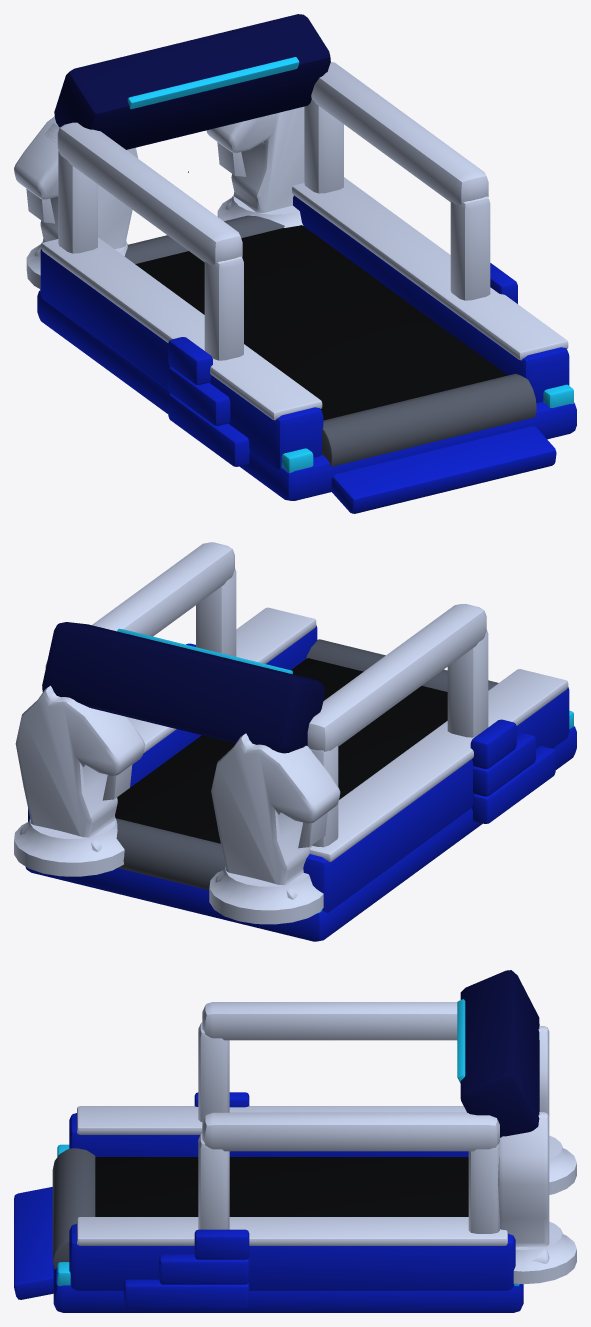
Rendered from KnightSprint.obj.
3 views of the same model, one above another, from view 1: azimuth 30°, elevation 25°; view 2: azimuth 150°, elevation 25°; view 3: azimuth 270°, elevation 25° (orthographic). The views are drawn at different scales.
Parts seen in each view (by area): view 1: KnightSprint_Chassis, KnightSprint_Trim, KnightSprint_Rail, KnightSprint_Belt, KnightSprint_Console, KnightSprint_Steel, KnightSprint_Screen; view 2: KnightSprint_Trim, KnightSprint_Chassis, KnightSprint_Rail, KnightSprint_Console, KnightSprint_Belt, KnightSprint_Steel, KnightSprint_Screen; view 3: KnightSprint_Chassis, KnightSprint_Rail, KnightSprint_Trim, KnightSprint_Belt, KnightSprint_Console, KnightSprint_Steel, KnightSprint_Screen.
Part boxes in pixels (x1,y1,x2,y2): KnightSprint_Chassis: (37,195,576,513); KnightSprint_Trim: (14,106,568,420); KnightSprint_Rail: (57,62,490,360); KnightSprint_Belt: (135,225,507,420); KnightSprint_Console: (54,14,330,172); KnightSprint_Steel: (124,215,536,466); KnightSprint_Screen: (40,57,573,472); KnightSprint_Trim: (14,607,568,924); KnightSprint_Chassis: (25,625,576,941); KnightSprint_Rail: (45,542,488,847); KnightSprint_Console: (42,622,324,783); KnightSprint_Belt: (115,658,447,843); KnightSprint_Steel: (115,639,498,890); KnightSprint_Screen: (117,628,573,912); KnightSprint_Chassis: (14,1092,523,1312); KnightSprint_Rail: (198,1002,499,1233); KnightSprint_Trim: (77,1026,576,1284); KnightSprint_Belt: (95,1157,468,1216); KnightSprint_Console: (460,970,539,1137); KnightSprint_Steel: (52,1148,95,1269); KnightSprint_Screen: (57,999,519,1285).
Size of the model in its own units: 8.8 by 6.59 by 14.37.
